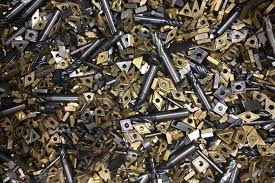metal: (146, 30, 186, 87), (57, 37, 108, 80), (123, 103, 194, 128), (28, 6, 66, 51), (128, 61, 164, 107), (183, 66, 214, 112), (156, 142, 206, 170), (90, 1, 124, 41), (206, 5, 245, 37), (53, 144, 84, 183), (129, 10, 185, 31), (33, 90, 82, 111), (234, 107, 262, 125), (187, 45, 209, 67), (1, 101, 27, 119), (227, 77, 248, 98), (215, 126, 236, 146), (112, 58, 135, 76), (22, 127, 44, 145), (20, 69, 40, 88)
